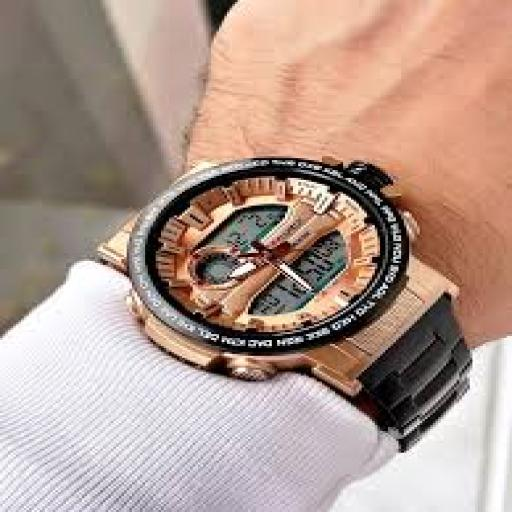KolSaati: (76, 129, 491, 447)
